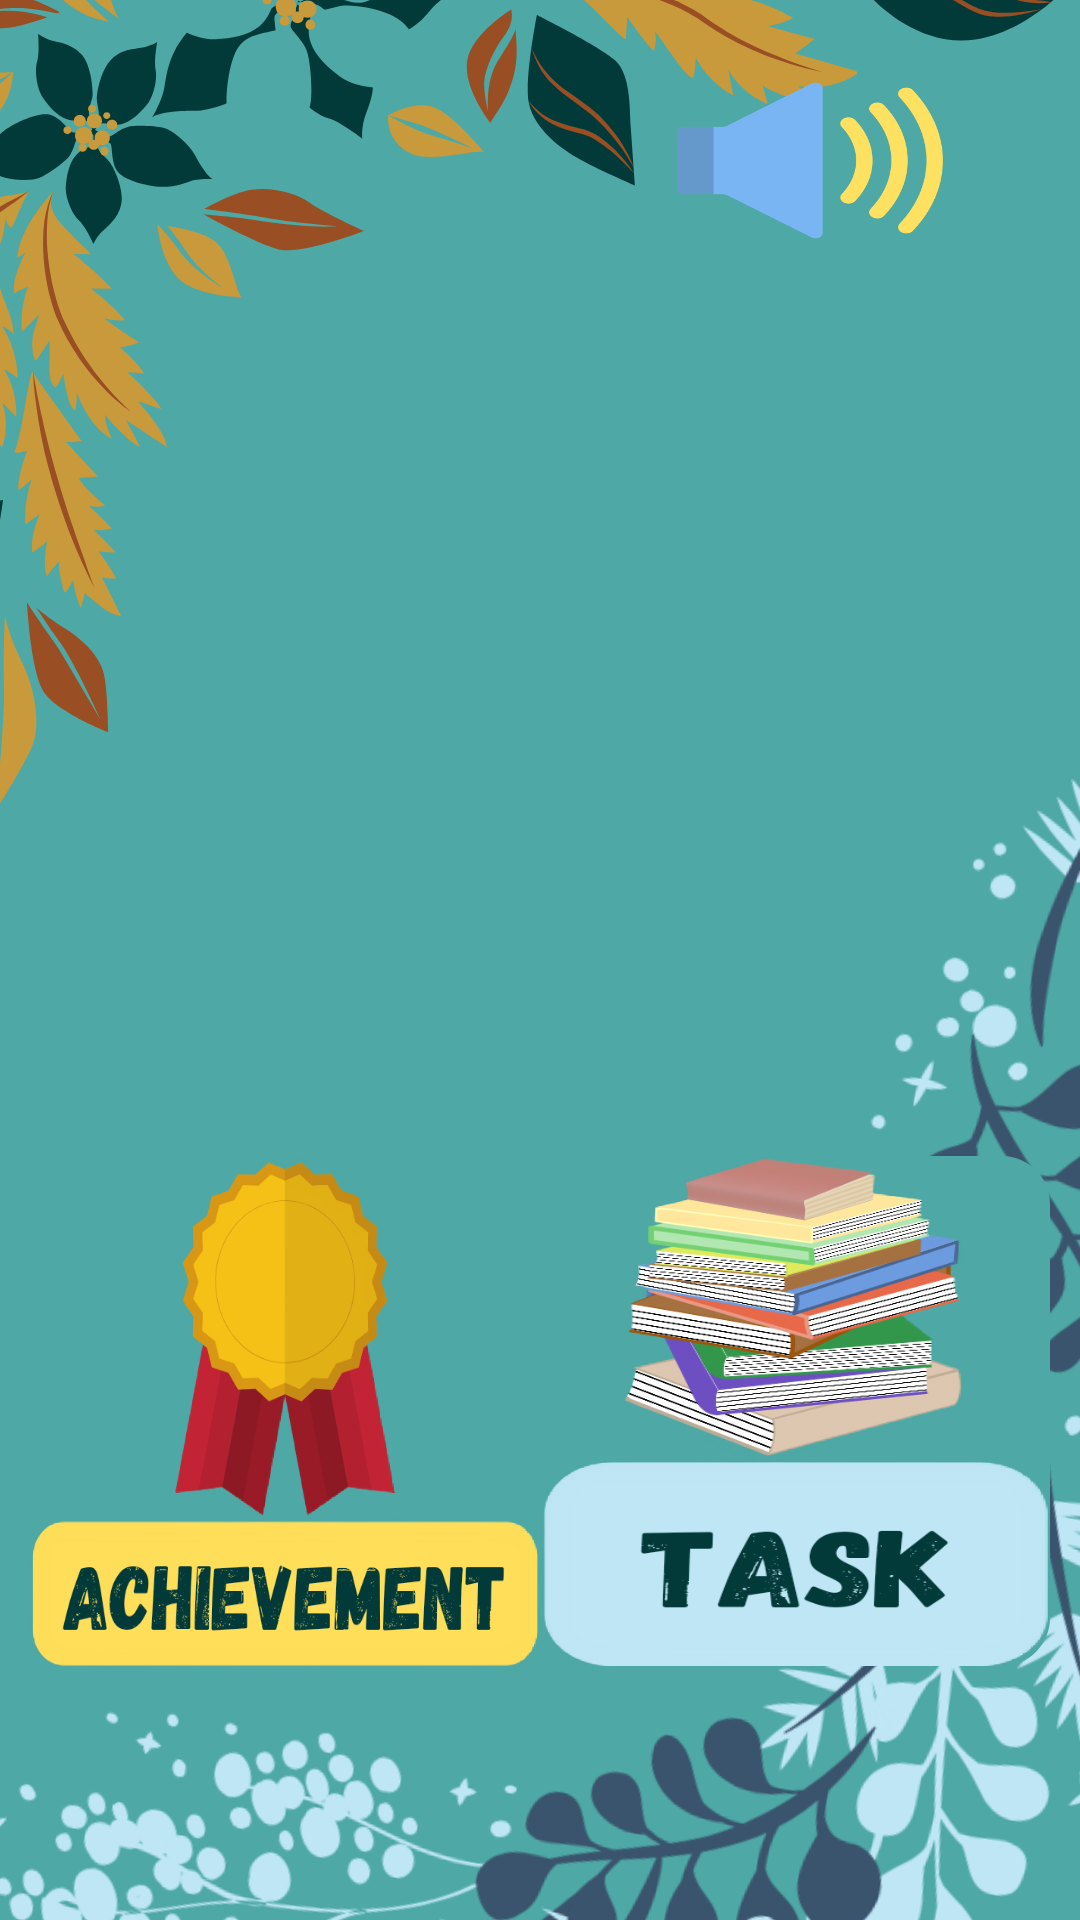

Icon bounding boxes for this 1080x1920 phone screenshot, format (x1, y1, x2, y2):
audio: (667, 48, 943, 239)
